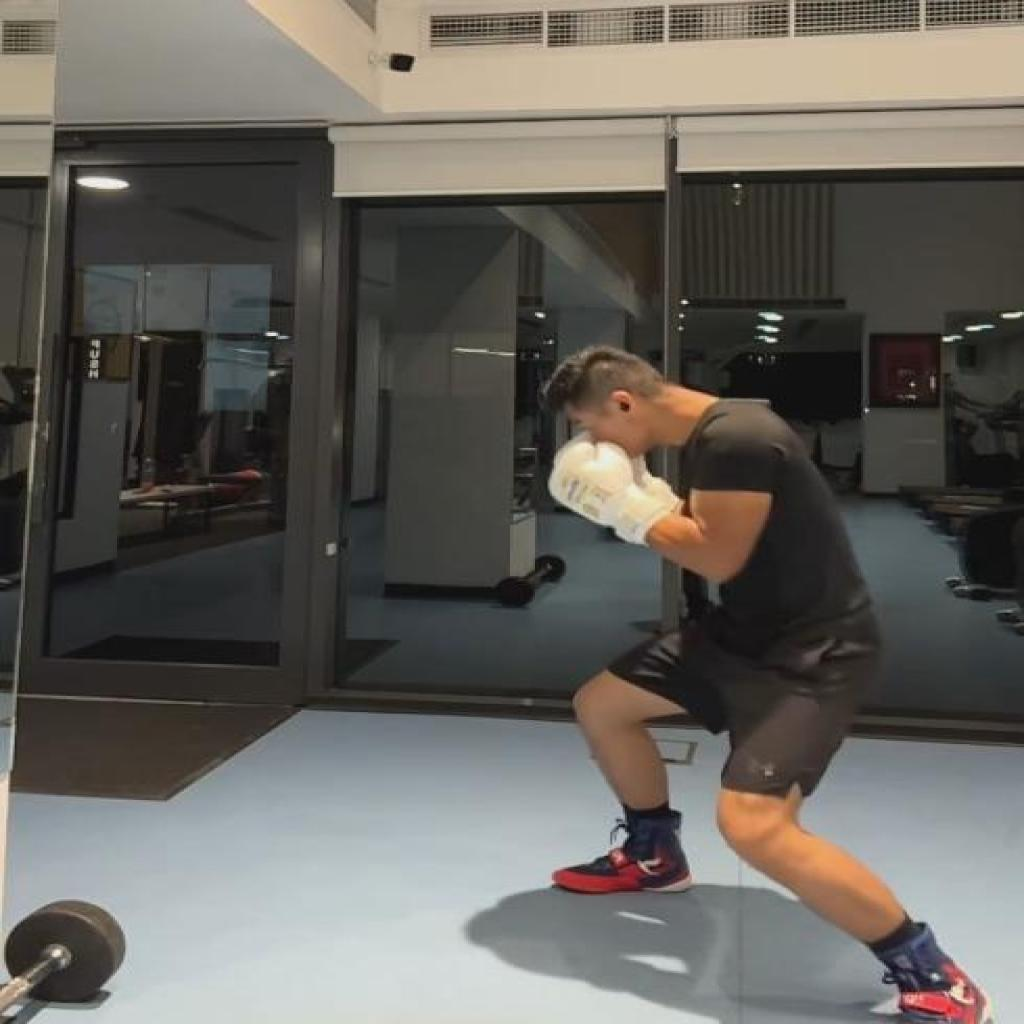no punch: (545, 339, 997, 1024)
